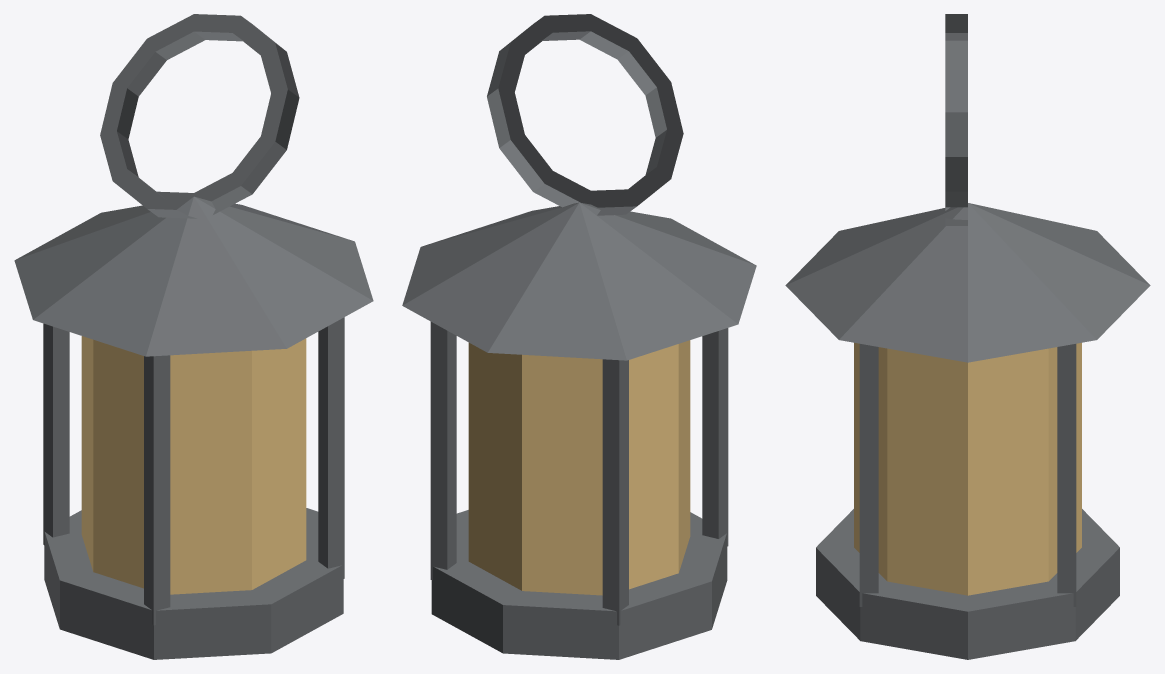
The picture shows the model from 3 angles, left to right: view 1: azimuth 30°, elevation 25°; view 2: azimuth 150°, elevation 25°; view 3: azimuth 270°, elevation 25°; orthographic projection.
Parts seen in each view (by area): view 1: frontier-post-oil-lantern; view 2: frontier-post-oil-lantern; view 3: frontier-post-oil-lantern.
Boxes of the visible parts, x1,y1,x2,y2 form: frontier-post-oil-lantern: (14, 14, 373, 659); frontier-post-oil-lantern: (402, 14, 756, 659); frontier-post-oil-lantern: (785, 14, 1150, 659).
Size of the model in its own units: 0.48 by 0.83 by 0.48.
